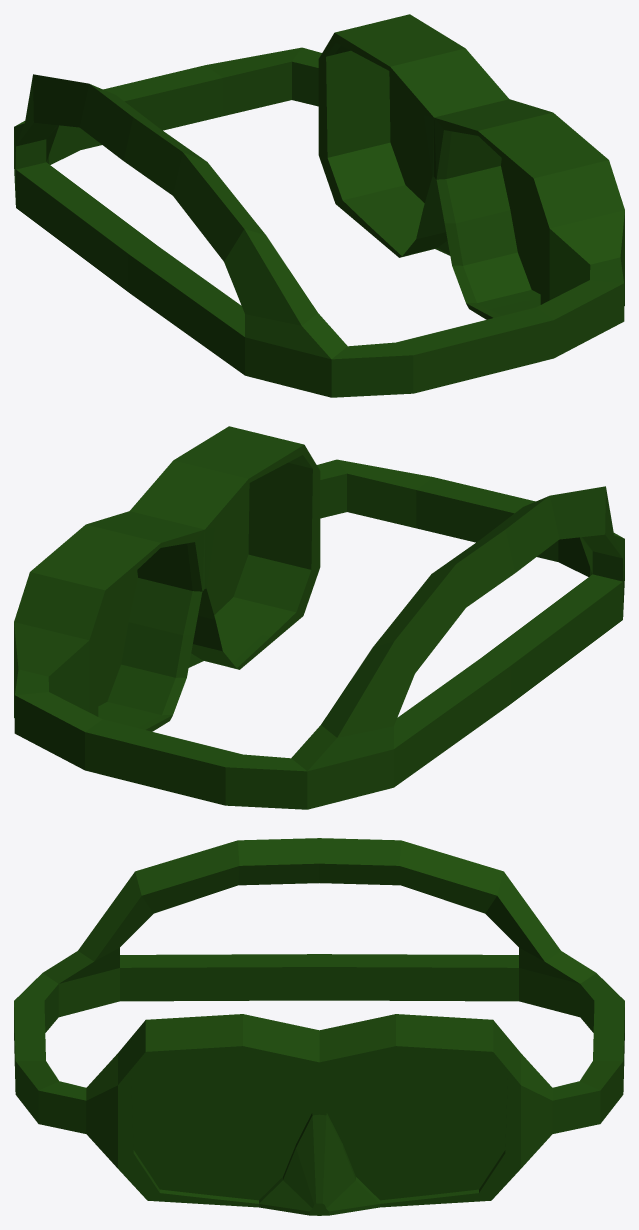
Rendered from gogglesBIG.fbx.
3 views of the same model, one above another, from view 1: azimuth 30°, elevation 25°; view 2: azimuth 150°, elevation 25°; view 3: azimuth 270°, elevation 25° (orthographic). The views are drawn at different scales.
Visible parts, largest first — view 1: Cube.002; view 2: Cube.002; view 3: Cube.002.
Part boxes in pixels (x1,y1,x2,y2): Cube.002: [14, 14, 624, 397]; Cube.002: [14, 426, 624, 809]; Cube.002: [14, 838, 624, 1215].
Bounding box in the file's own units: 41.1 × 23.6 × 61.56.
